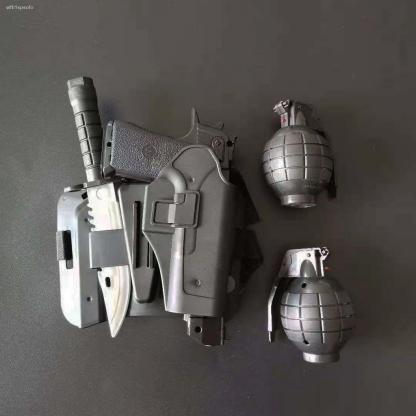Grenade: (265, 246, 356, 365), (261, 98, 339, 210)
Knife: (64, 76, 134, 340)
Pistol: (100, 106, 242, 348)
